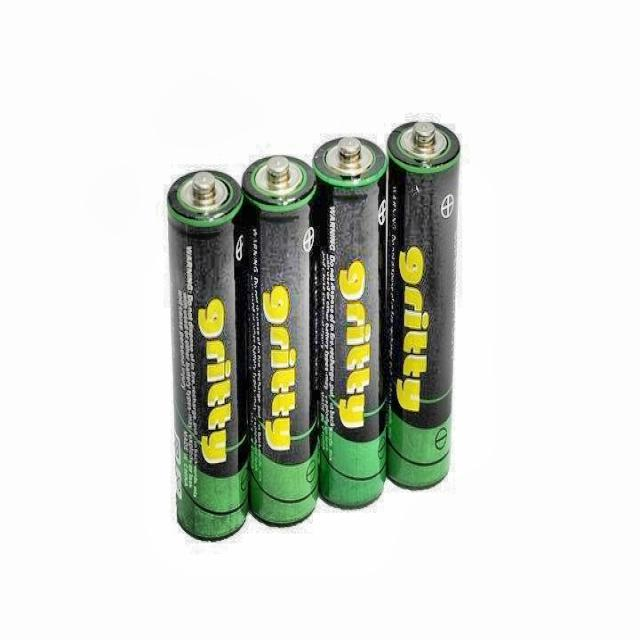Non-Valuable Waste - Batteries: (168, 170, 248, 539), (312, 137, 388, 508), (242, 155, 318, 525), (388, 123, 460, 488)
